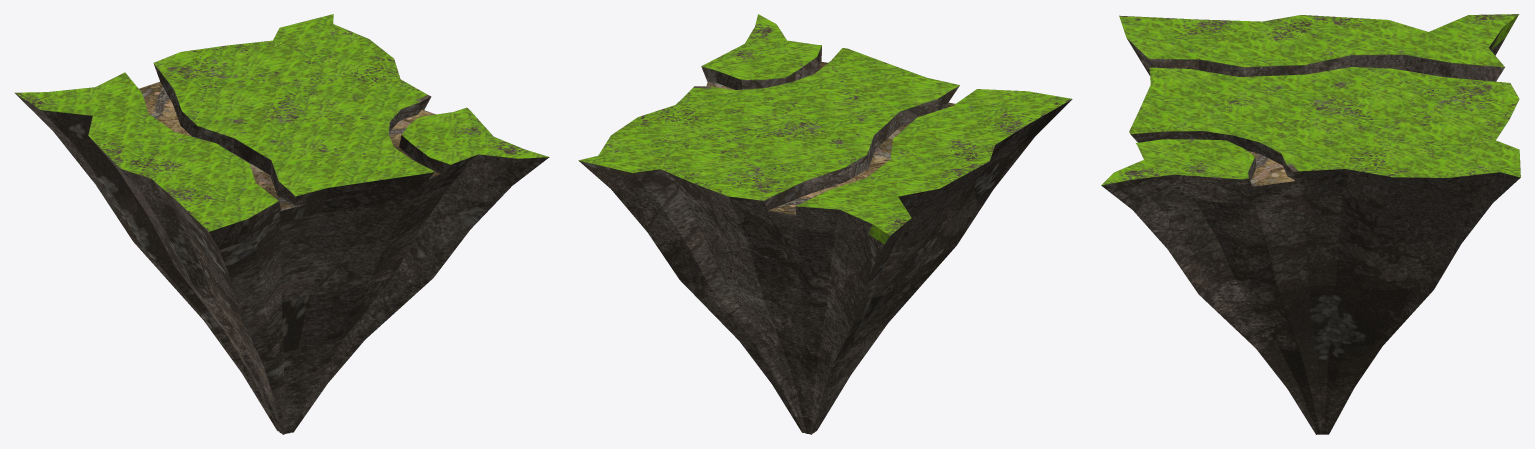
3 views of the same model, side by side, from view 1: azimuth 30°, elevation 25°; view 2: azimuth 150°, elevation 25°; view 3: azimuth 270°, elevation 25° (orthographic). The views are drawn at different scales.
Visible parts, largest first — view 1: Island; view 2: Island; view 3: Island.
Part boxes in pixels (x1,y1,x2,y2): Island: (14, 14, 549, 434); Island: (578, 14, 1072, 434); Island: (1101, 14, 1520, 434).
Size of the model in its own units: 217 by 194 by 225.
